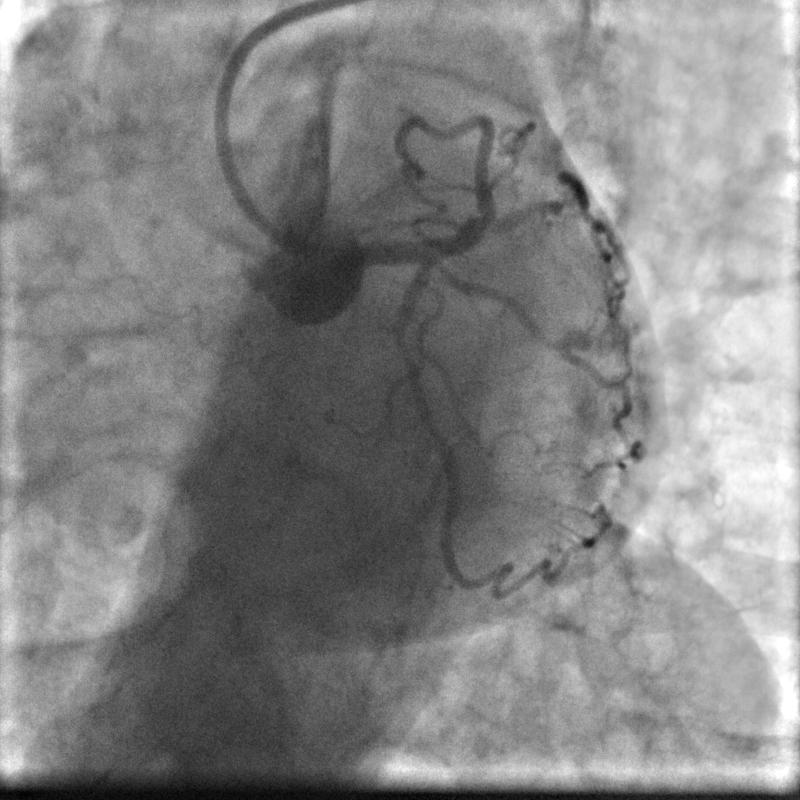Stenosis: (392, 327, 416, 371)
